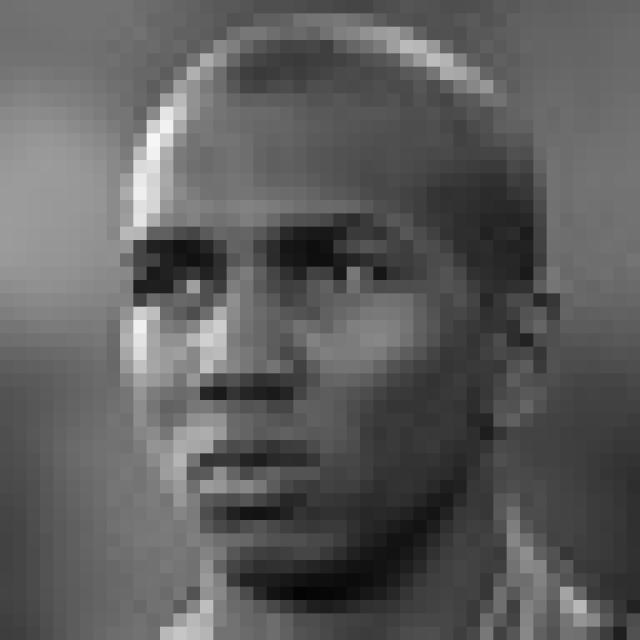neutral: (134, 208, 427, 531)
